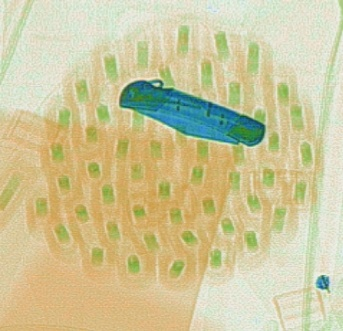firecrackers: (22, 13, 325, 293)
knife: (118, 77, 265, 148)
